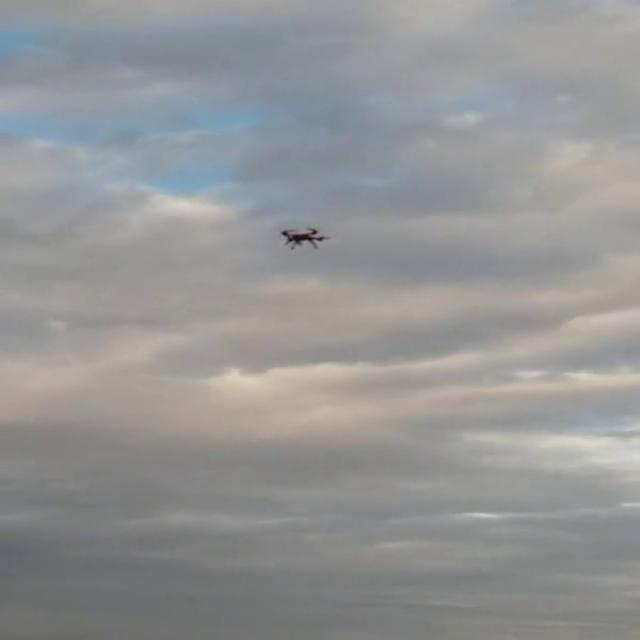drone: (275, 224, 334, 252)
